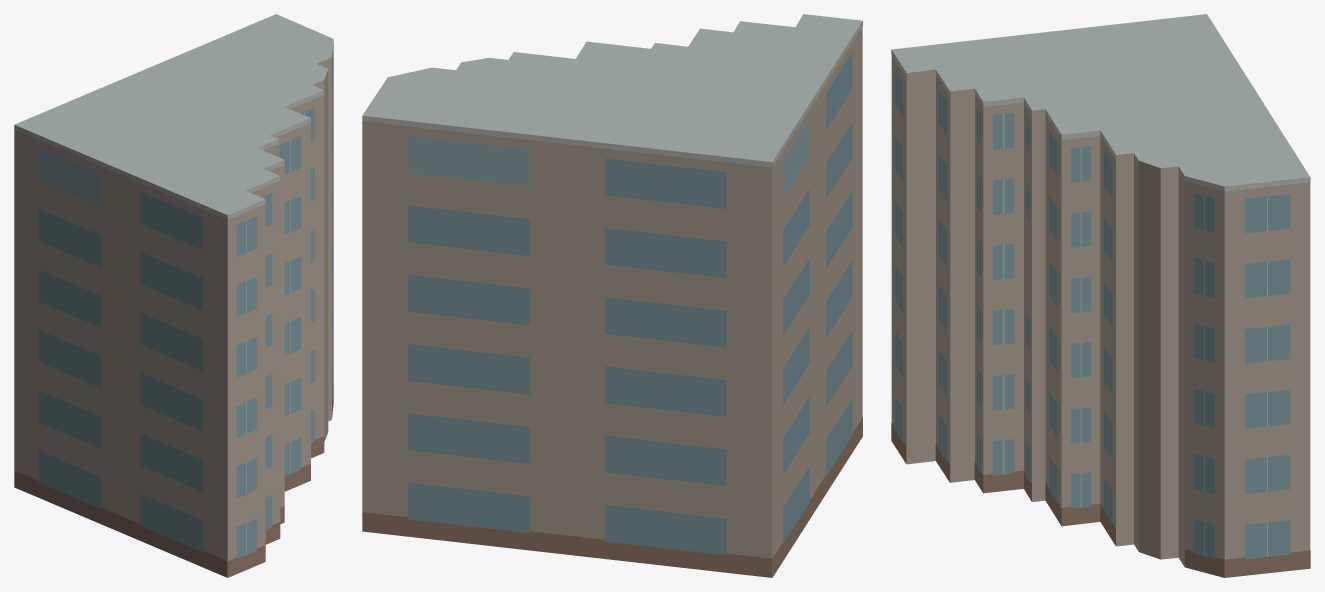
File: survey-upis-32787357.glb
3 renders of one model, left to right at view 1: azimuth 30°, elevation 25°; view 2: azimuth 150°, elevation 25°; view 3: azimuth 270°, elevation 25°, orthographic. The views are drawn at different scales.
Parts seen in each view (by area): view 1: survey-upis-32787357.tmp; view 2: survey-upis-32787357.tmp; view 3: survey-upis-32787357.tmp.
Part boxes in pixels (x1,y1,x2,y2): survey-upis-32787357.tmp: (14,14,333,577); survey-upis-32787357.tmp: (362,14,862,577); survey-upis-32787357.tmp: (891,14,1310,577).
Size of the model in its own units: 17.59 by 18.6 by 18.05.
